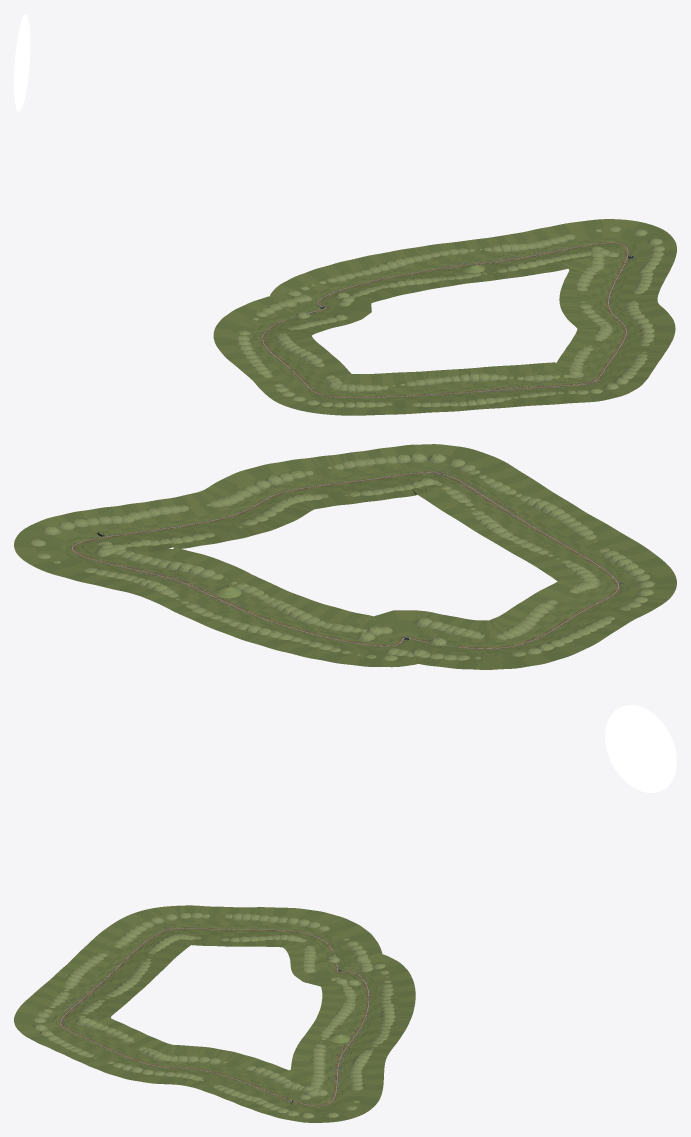
File: glastonbury.glb
3 renders of one model, top to bottom at view 1: azimuth 30°, elevation 25°; view 2: azimuth 150°, elevation 25°; view 3: azimuth 270°, elevation 25°, orthographic. The views are drawn at different scales.
Visible parts, largest first — view 1: Land_002, Land_001, FestivalGrass_002, Land_007, Land_008, Sun, FestivalGrass_022, Land_006, FestivalGrass_041, Land_005, Land_009, FestivalGrass_018 (+45 smaller); view 2: Land_002, Land_001, Land_007, FestivalGrass_002, Land_008, Land_009, FestivalGrass_015, Land_004, FestivalGrass_041, FestivalGrass_022, Land_006, FestivalGrass_037 (+44 smaller); view 3: Sun, Land_002, Land_001, Land_008, Land_007, FestivalGrass_018, FestivalGrass_002, FestivalGrass_041, Land_009, Land_004, Land_006, Land_005 (+44 smaller).
Boxes of the visible parts, x1,y1,x2,y2 form: Land_002: [366, 248, 487, 287]; Land_001: [479, 234, 596, 272]; FestivalGrass_002: [610, 219, 676, 250]; Land_007: [420, 373, 539, 406]; Land_008: [533, 356, 643, 396]; Sun: [14, 14, 30, 111]; FestivalGrass_022: [249, 358, 348, 386]; Land_006: [293, 379, 428, 407]; FestivalGrass_041: [559, 289, 657, 306]; Land_005: [242, 341, 340, 399]; Land_009: [575, 311, 654, 364]; FestivalGrass_018: [214, 312, 312, 337]; Land_002: [181, 581, 320, 640]; Land_001: [84, 546, 227, 599]; Land_007: [457, 484, 589, 549]; FestivalGrass_002: [14, 517, 94, 561]; Land_008: [362, 453, 502, 499]; Land_009: [232, 459, 383, 510]; FestivalGrass_015: [367, 610, 447, 648]; Land_004: [414, 621, 565, 660]; FestivalGrass_041: [181, 492, 266, 541]; FestivalGrass_022: [530, 584, 643, 624]; Land_006: [528, 530, 654, 593]; FestivalGrass_037: [289, 456, 353, 507]; Sun: [605, 705, 676, 792]; Land_002: [320, 1000, 395, 1046]; Land_001: [306, 1042, 373, 1090]; Land_008: [33, 998, 116, 1050]; Land_007: [56, 957, 147, 1005]; FestivalGrass_018: [283, 915, 367, 948]; FestivalGrass_002: [287, 1098, 370, 1122]; FestivalGrass_041: [187, 1050, 256, 1089]; Land_009: [71, 1030, 182, 1076]; Land_004: [280, 917, 368, 964]; Land_006: [92, 914, 184, 967]; Land_005: [173, 912, 289, 941].
Size of the model in its own units: 4966 by 1974 by 5964.
